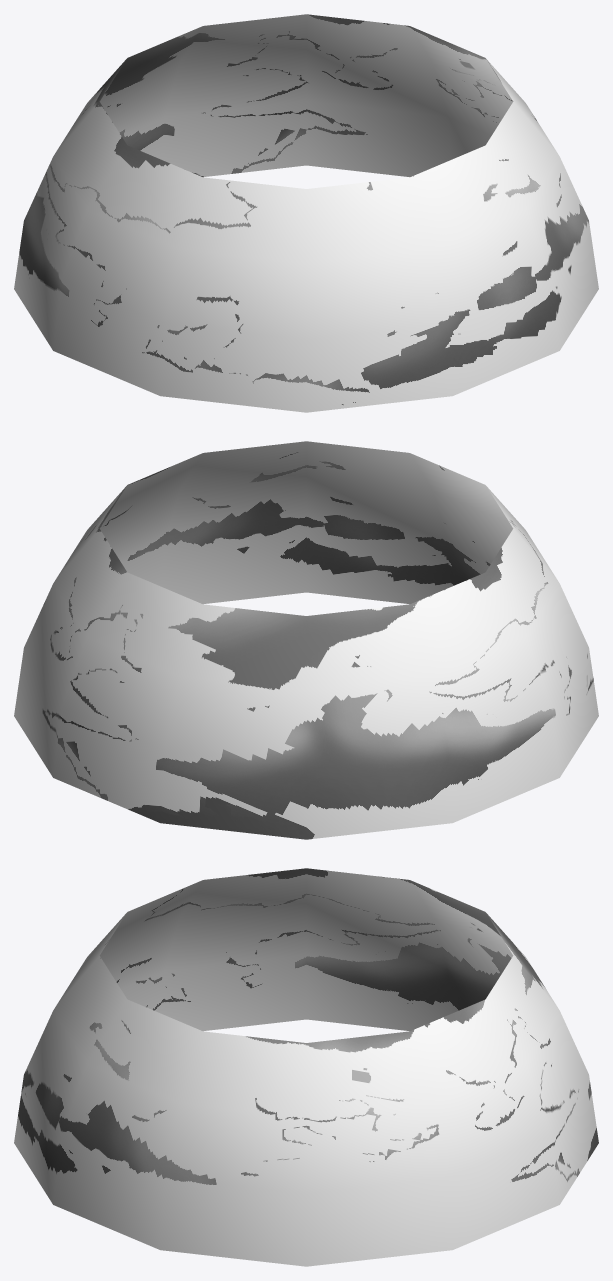
The model's file is Cloud1-3.fbx.
The picture shows the model from 3 angles, top to bottom: view 1: azimuth 30°, elevation 25°; view 2: azimuth 150°, elevation 25°; view 3: azimuth 270°, elevation 25°; orthographic projection.
Parts seen in each view (by area): view 1: Thunder6; view 2: Thunder6; view 3: Thunder6.
Boxes of the visible parts, <box> form: Thunder6: <box>14,14,598,412</box>; Thunder6: <box>14,441,598,839</box>; Thunder6: <box>14,868,598,1266</box>.
Bounding box in the file's own units: 16.31 × 5.77 × 16.31.
1 material, 1 textured.
